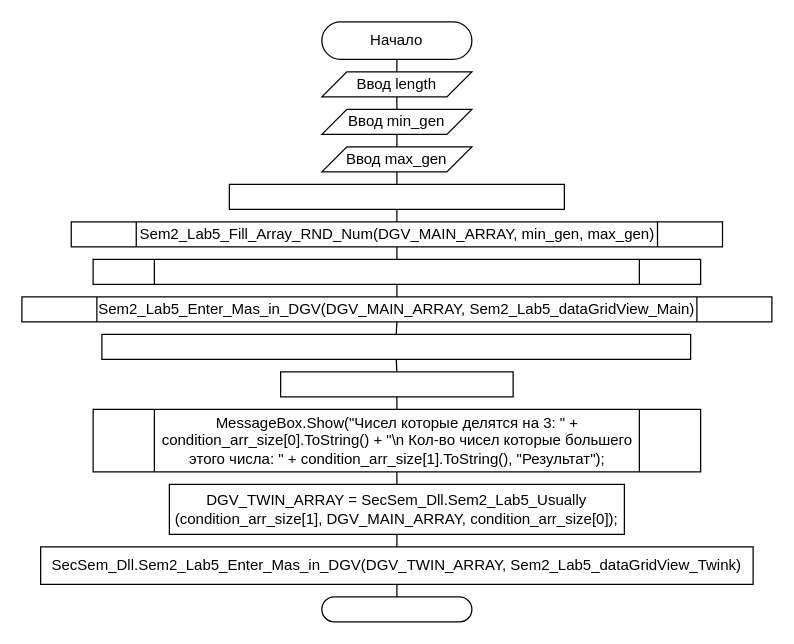
Image size: 794x644. Some labels were removed from this diagram. The centre of each missing label's shape, as x and y in pixels:
"compare = condition_arr_size[0]" goes at point (396, 384).
"condition_arr_size = SecSem_Dll.Sem2_Lab5_Count_Condition(DGV_MAIN_ARRAY)" goes at point (396, 346).
"DGV_MAIN_ARRAY = new int[length, length]" goes at point (396, 196).
"Sem2_Lab5_Fill_corner_DGV(length,Sem2_Lab5_dataGridView_Main)" goes at point (396, 271).
"Конец" goes at point (396, 609).
